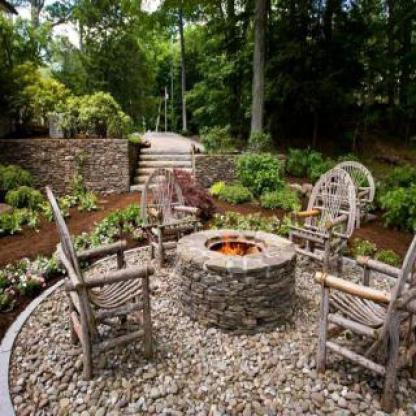fire: (218, 223, 248, 262)
